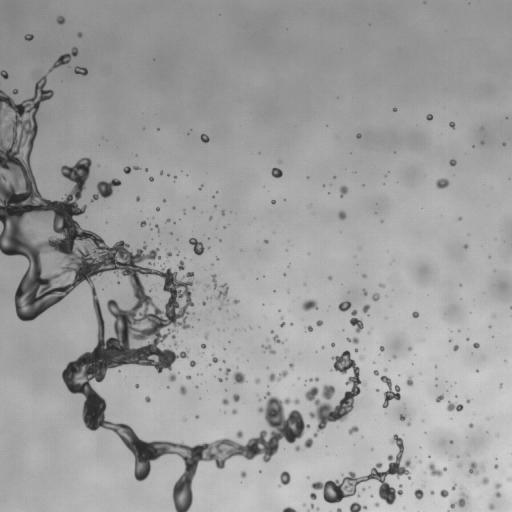droplet: (311, 434, 410, 504), (380, 375, 400, 407), (189, 238, 204, 255), (428, 462, 446, 476), (468, 461, 484, 475), (302, 299, 318, 311), (446, 401, 463, 411), (279, 471, 290, 486), (233, 371, 246, 383), (349, 502, 366, 511), (436, 178, 449, 188), (338, 301, 351, 311), (74, 66, 87, 75), (271, 168, 282, 178), (414, 489, 423, 499), (304, 438, 313, 447), (348, 426, 358, 434), (340, 185, 347, 196), (200, 134, 209, 142), (273, 334, 281, 343), (347, 337, 358, 343), (57, 16, 65, 24), (0, 71, 8, 79), (338, 211, 346, 219), (440, 489, 448, 497), (177, 261, 184, 270), (362, 304, 369, 313), (406, 377, 413, 386), (123, 166, 131, 173), (372, 293, 379, 301), (24, 34, 33, 40), (180, 385, 186, 394), (449, 159, 456, 166), (436, 395, 443, 402), (236, 431, 243, 438), (233, 394, 239, 402), (169, 374, 175, 381), (222, 398, 228, 405), (482, 477, 488, 484), (310, 492, 316, 499), (426, 114, 432, 120), (449, 122, 455, 128), (412, 311, 418, 317), (316, 320, 322, 326), (306, 325, 312, 331), (473, 342, 479, 348), (212, 356, 218, 362), (240, 471, 246, 477), (399, 415, 406, 420), (12, 89, 18, 94), (140, 221, 146, 226), (190, 360, 195, 366), (145, 396, 150, 402), (494, 483, 500, 488), (451, 484, 456, 490), (488, 504, 494, 509), (356, 133, 361, 138), (166, 252, 171, 257), (453, 345, 458, 350), (373, 370, 378, 375), (232, 409, 237, 414), (495, 492, 500, 497), (363, 289, 367, 295), (233, 299, 238, 303), (280, 321, 284, 326), (201, 343, 205, 348), (380, 346, 384, 351), (289, 363, 293, 368), (255, 378, 259, 383), (295, 446, 299, 451), (310, 503, 314, 508), (375, 502, 379, 507), (149, 177, 153, 181), (271, 200, 275, 204), (204, 334, 208, 338), (186, 375, 190, 379), (466, 399, 470, 403), (469, 423, 473, 427), (494, 464, 498, 468), (430, 490, 434, 494), (78, 32, 81, 37), (134, 166, 139, 169), (336, 508, 341, 511), (166, 219, 170, 222), (464, 244, 467, 248), (380, 284, 384, 287), (218, 378, 222, 381), (135, 384, 139, 387), (508, 477, 511, 481), (316, 507, 319, 511), (393, 108, 396, 111), (199, 186, 202, 189), (136, 197, 139, 200), (156, 207, 159, 210), (221, 211, 224, 214), (155, 225, 158, 228), (202, 301, 205, 304), (331, 343, 334, 346), (499, 384, 502, 387), (458, 463, 460, 467), (163, 199, 165, 202), (209, 217, 212, 219), (265, 240, 267, 243), (363, 274, 365, 277), (328, 277, 331, 279), (174, 342, 177, 344), (321, 346, 324, 348), (196, 415, 198, 418), (407, 423, 410, 425), (450, 440, 452, 443), (481, 142, 483, 144), (503, 143, 505, 145), (214, 205, 216, 207), (206, 284, 208, 286), (271, 330, 273, 332), (449, 339, 451, 341), (409, 347, 411, 349), (355, 349, 357, 351), (359, 356, 361, 358)
ligament: (0, 75, 310, 511), (305, 350, 366, 437), (48, 47, 77, 73), (91, 178, 121, 201), (211, 274, 228, 309), (450, 486, 468, 508), (350, 310, 363, 332), (269, 370, 287, 381), (262, 344, 275, 354), (282, 507, 296, 511), (225, 368, 230, 377), (309, 377, 319, 381), (207, 296, 213, 299)
